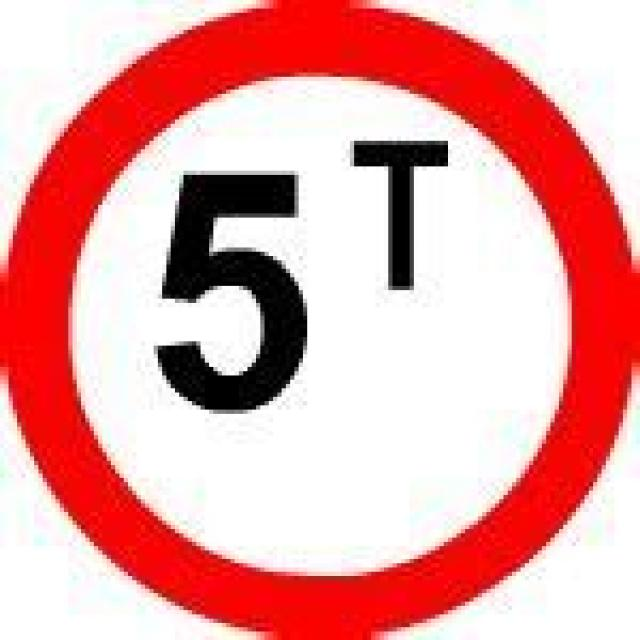load_limit: (0, 4, 636, 636)
